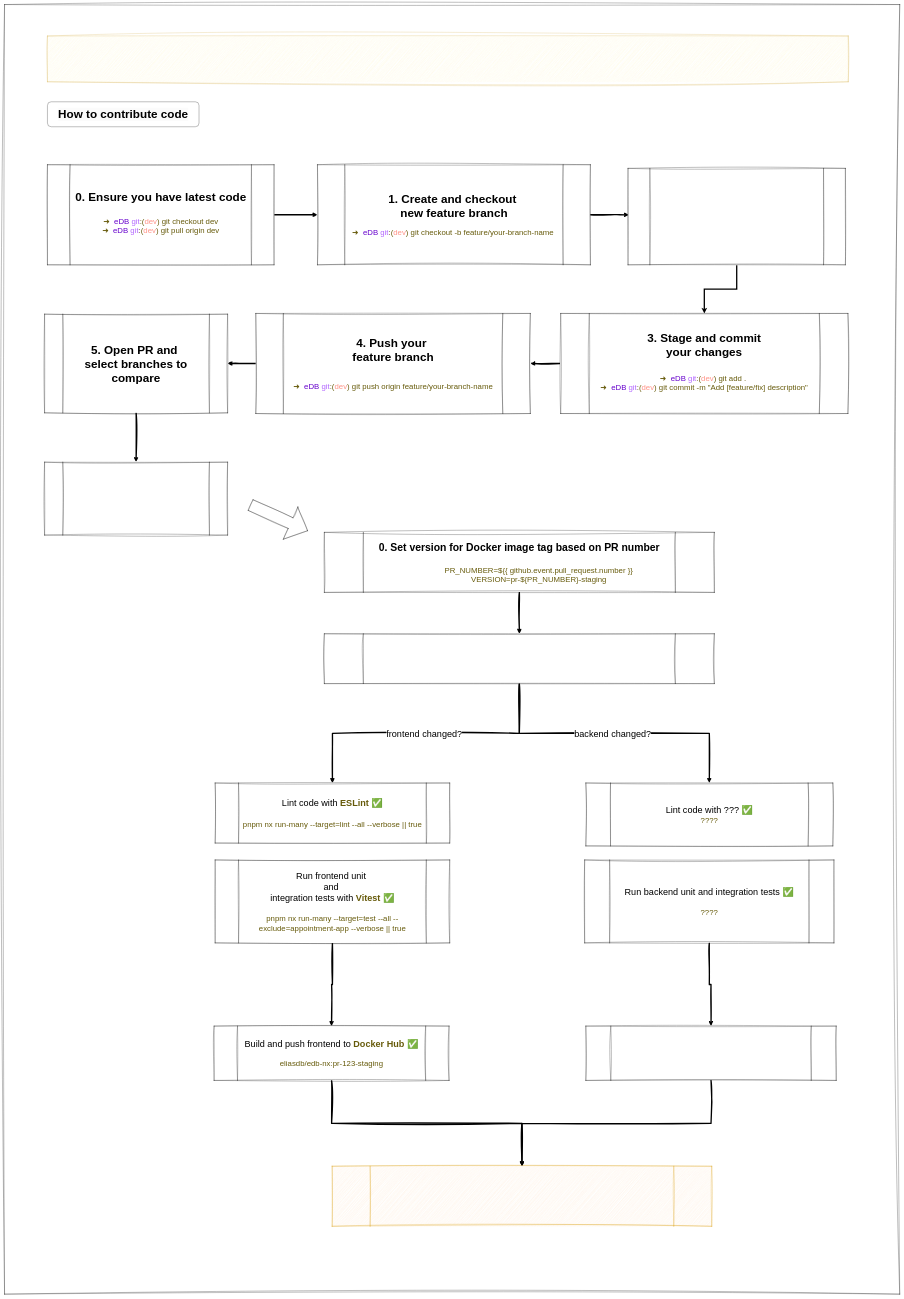
Image size: 904x1299. Some labels were removed from this diagram. Here are the shapes that lost their labels. From the top down, the centre of each, then its label:
(x=447, y=59): Development Workflow
(x=736, y=216): 2. Make your changes
(x=136, y=498): 6. Wait for pre-merge checks to pass
(x=519, y=658): 1. Check if backend or frontend code changed
(x=711, y=1053): Build and push backend to Docker Hub ✅ eliasdb/edb-api:pr-123-staging
(x=522, y=1196): Only if all checks pass, m erge the PR to dev branch
